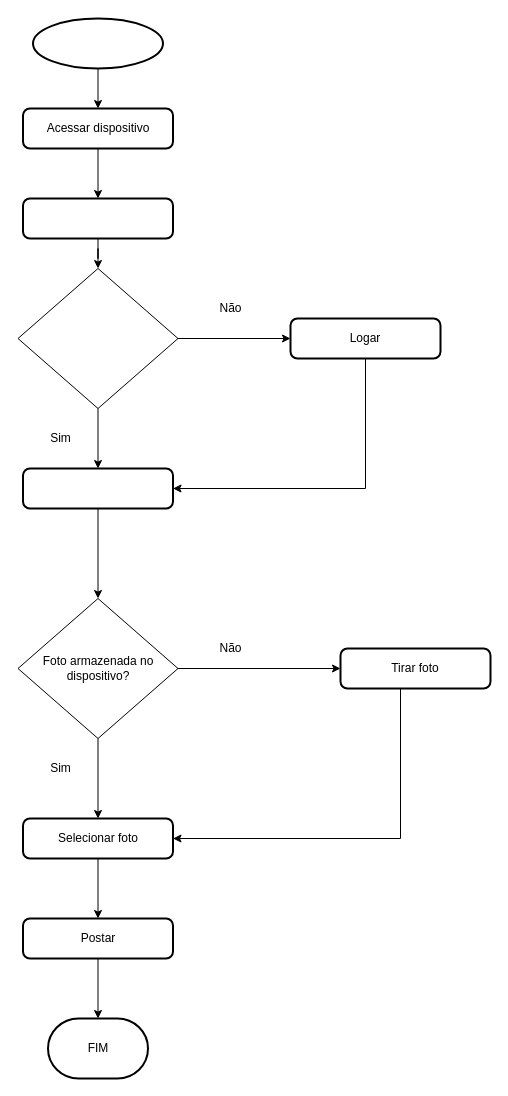
Some shapes in this 508 by 1096 pixel diagram are drawn without their labels. The centre of each missing label's shape, as x and y in pixels:
"Acessar aplicação" belongs at pixel 98 218.
"Acessar recurso de postagem" belongs at pixel 98 488.
"Inicio" belongs at pixel 98 43.
"Logado?" belongs at pixel 97 338.
